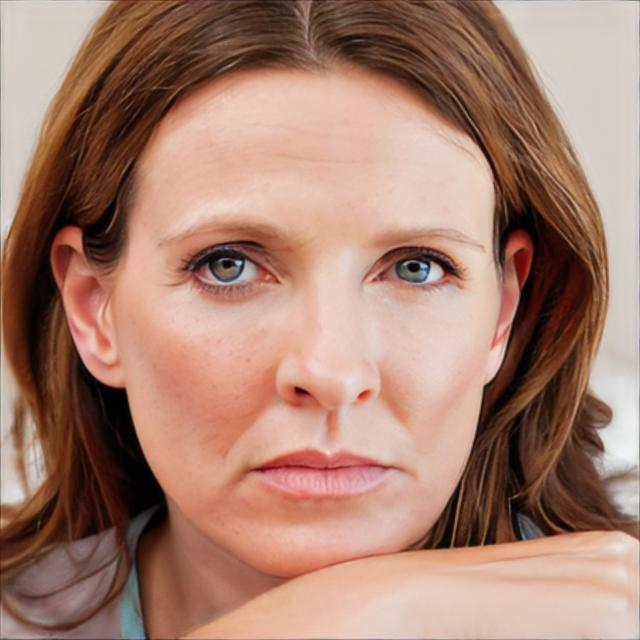anger: (117, 53, 504, 572)
